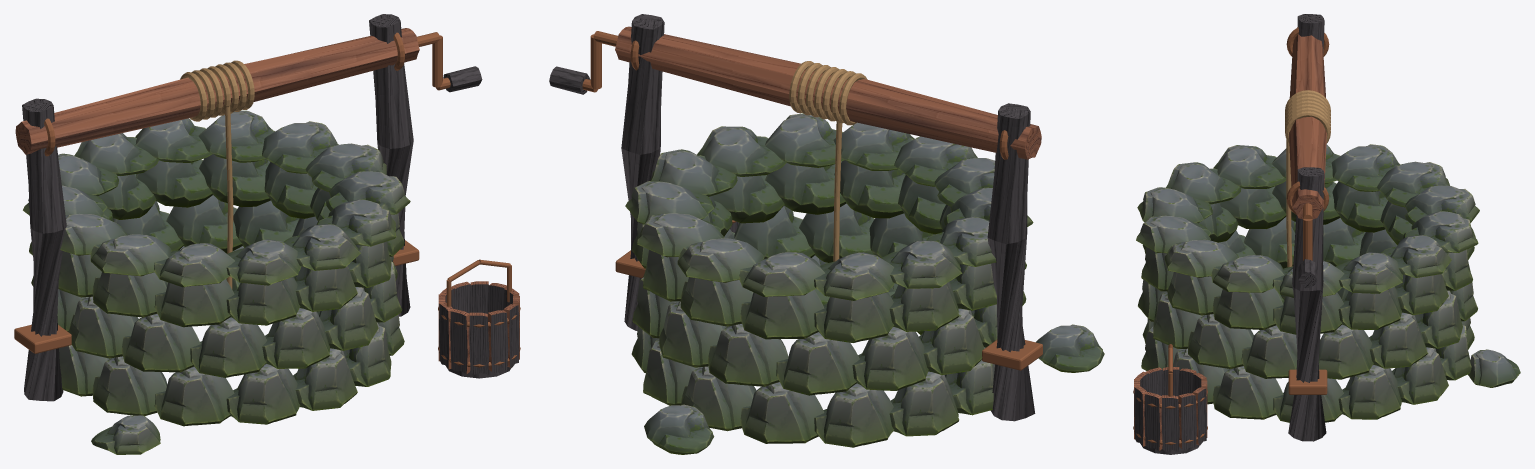
Rendered from Woodland_Well_Barren.glb.
The picture shows the model from 3 angles, left to right: view 1: azimuth 30°, elevation 25°; view 2: azimuth 150°, elevation 25°; view 3: azimuth 270°, elevation 25°; orthographic projection. The views are drawn at different scales.
Visible parts, largest first — view 1: Structure; view 2: Structure; view 3: Structure.
Boxes of the visible parts, x1,y1,x2,y2 form: Structure: (14,14,520,454); Structure: (549,14,1104,454); Structure: (1133,14,1520,454).
Size of the model in its own units: 3.45 by 2.14 by 2.82.
Materials: 5 (3 with a texture image).
